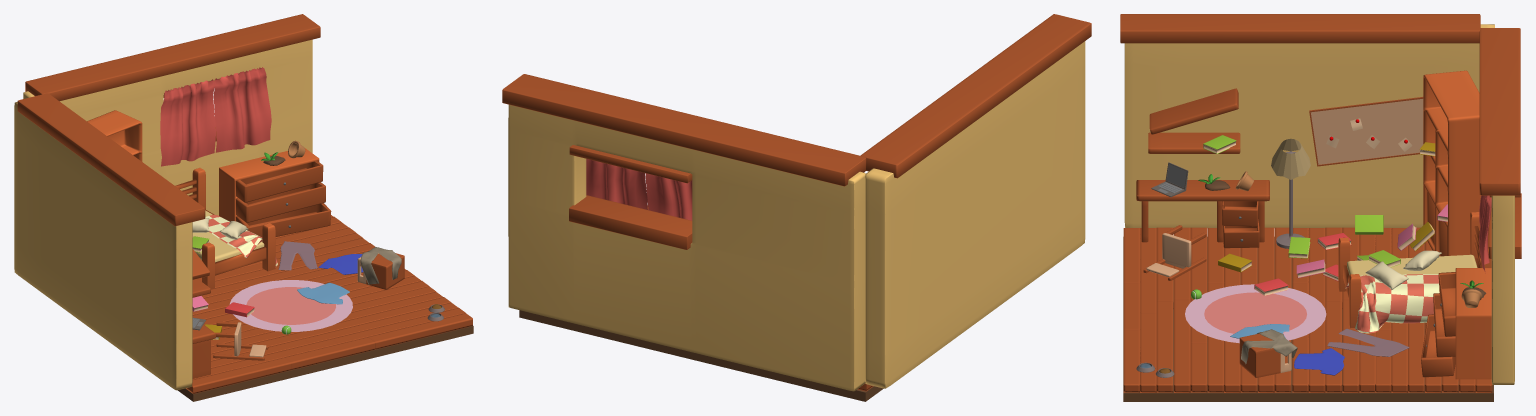
File: Room 4.fbx
The picture shows the model from 3 angles, left to right: view 1: azimuth 30°, elevation 25°; view 2: azimuth 150°, elevation 25°; view 3: azimuth 270°, elevation 25°; orthographic projection. The views are drawn at different scales.
Parts seen in each view (by area): view 1: Cube.035, Cube.044, Cube.054, Cube.045, Cube.046, Circle.001, Plane.014, Plane.018, Cube.034, Cube.036, Cube.048, Cube.051 (+13 smaller); view 2: Cube.054, Cube.035, Cube.045, Cube.046, Cube.060, Cube.034, Plane.014, Plane.018, Cube.071; view 3: Cube.035, Cube.044, Cube.046, Cube.047, Cube.045, Cube.056, Circle.001, Cube.054, Cube.034, Cube.048, Plane.015, Cube.038 (+32 smaller).
Boxes of the visible parts, <box> form: Cube.035: <box>14,102,192,390</box>; Cube.044: <box>186,215,472,393</box>; Cube.054: <box>23,39,312,215</box>; Cube.045: <box>25,14,320,101</box>; Cube.046: <box>17,93,205,225</box>; Circle.001: <box>229,280,352,331</box>; Plane.014: <box>213,67,271,152</box>; Plane.018: <box>160,79,215,166</box>; Cube.034: <box>178,326,473,401</box>; Cube.036: <box>175,168,275,289</box>; Cube.048: <box>219,148,319,221</box>; Cube.051: <box>236,161,323,202</box>; Cube.054: <box>508,104,865,391</box>; Cube.035: <box>865,41,1085,388</box>; Cube.045: <box>502,74,866,186</box>; Cube.046: <box>860,14,1091,178</box>; Cube.060: <box>569,195,692,249</box>; Cube.034: <box>519,310,883,401</box>; Plane.014: <box>586,159,647,209</box>; Plane.018: <box>645,173,692,220</box>; Cube.071: <box>569,145,692,183</box>; Cube.035: <box>1124,24,1494,227</box>; Cube.044: <box>1123,227,1492,392</box>; Cube.046: <box>1120,14,1480,43</box>; Cube.047: <box>1423,70,1488,256</box>; Cube.045: <box>1479,28,1520,195</box>; Cube.056: <box>1309,97,1423,166</box>; Circle.001: <box>1185,284,1326,343</box>; Cube.054: <box>1491,195,1514,384</box>; Cube.034: <box>1123,237,1493,401</box>; Cube.048: <box>1455,268,1491,380</box>; Plane.015: <box>1345,274,1439,333</box>; Cube.038: <box>1136,180,1269,242</box>.
Bounding box in the file's own units: 2011 × 1220 × 2015.
